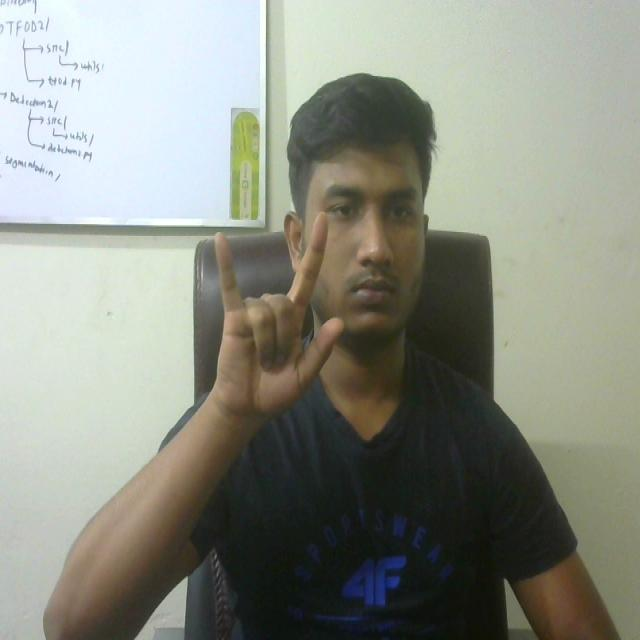I Love You: (192, 211, 354, 439)
